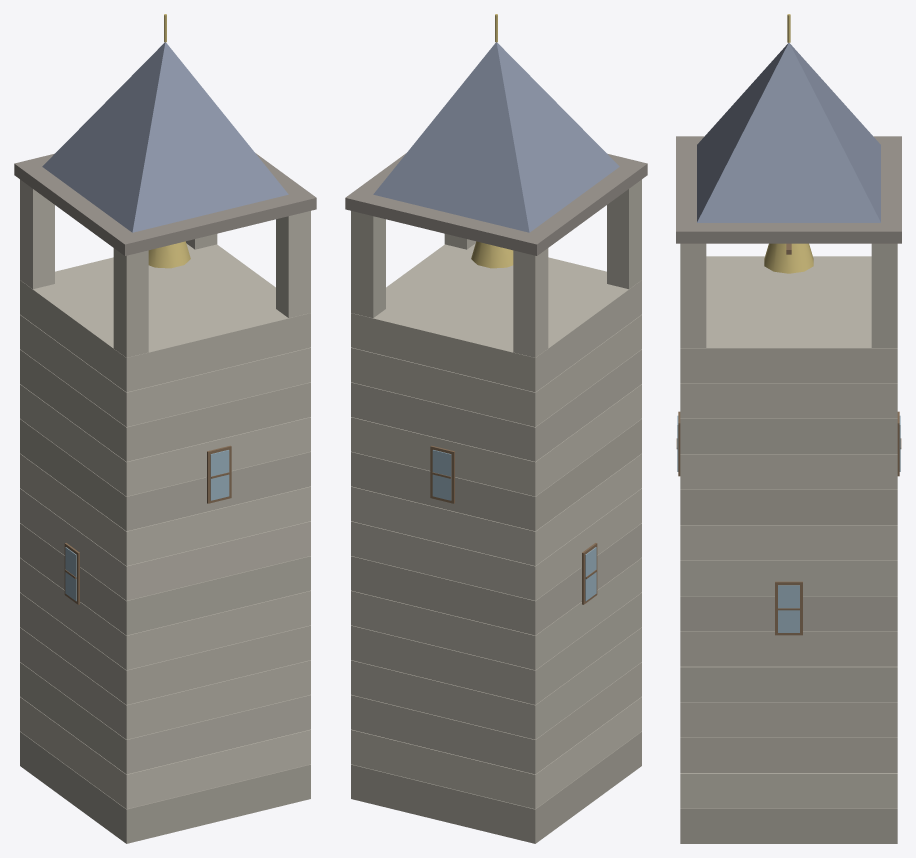
The model's file is belfry.glb.
3 views of the same model, side by side, from view 1: azimuth 30°, elevation 25°; view 2: azimuth 150°, elevation 25°; view 3: azimuth 270°, elevation 25° (orthographic). The views are drawn at different scales.
Parts seen in each view (by area): view 1: belfry; view 2: belfry; view 3: belfry.
Part boxes in pixels (x1=…): belfry: x1=14, y1=14, x2=316, y2=843; belfry: x1=345, y1=14, x2=647, y2=843; belfry: x1=676, y1=14, x2=901, y2=843.
Bounding box in the file's own units: 5.2 × 19.89 × 5.2.
